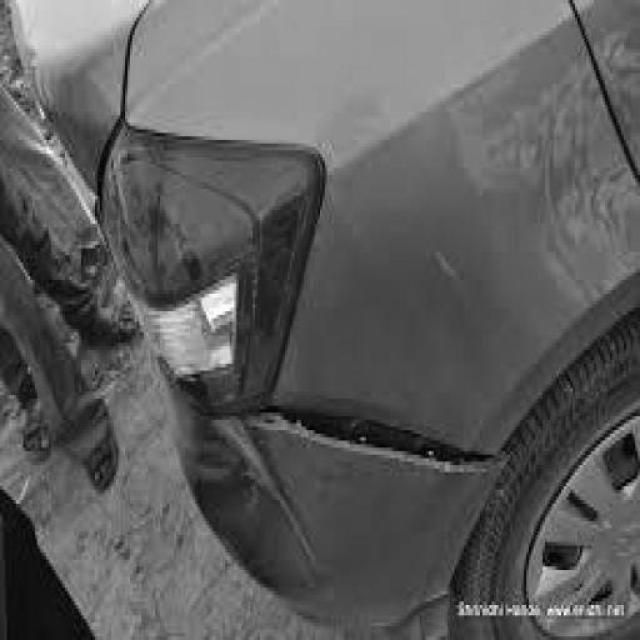car damage: (189, 379, 509, 589)
